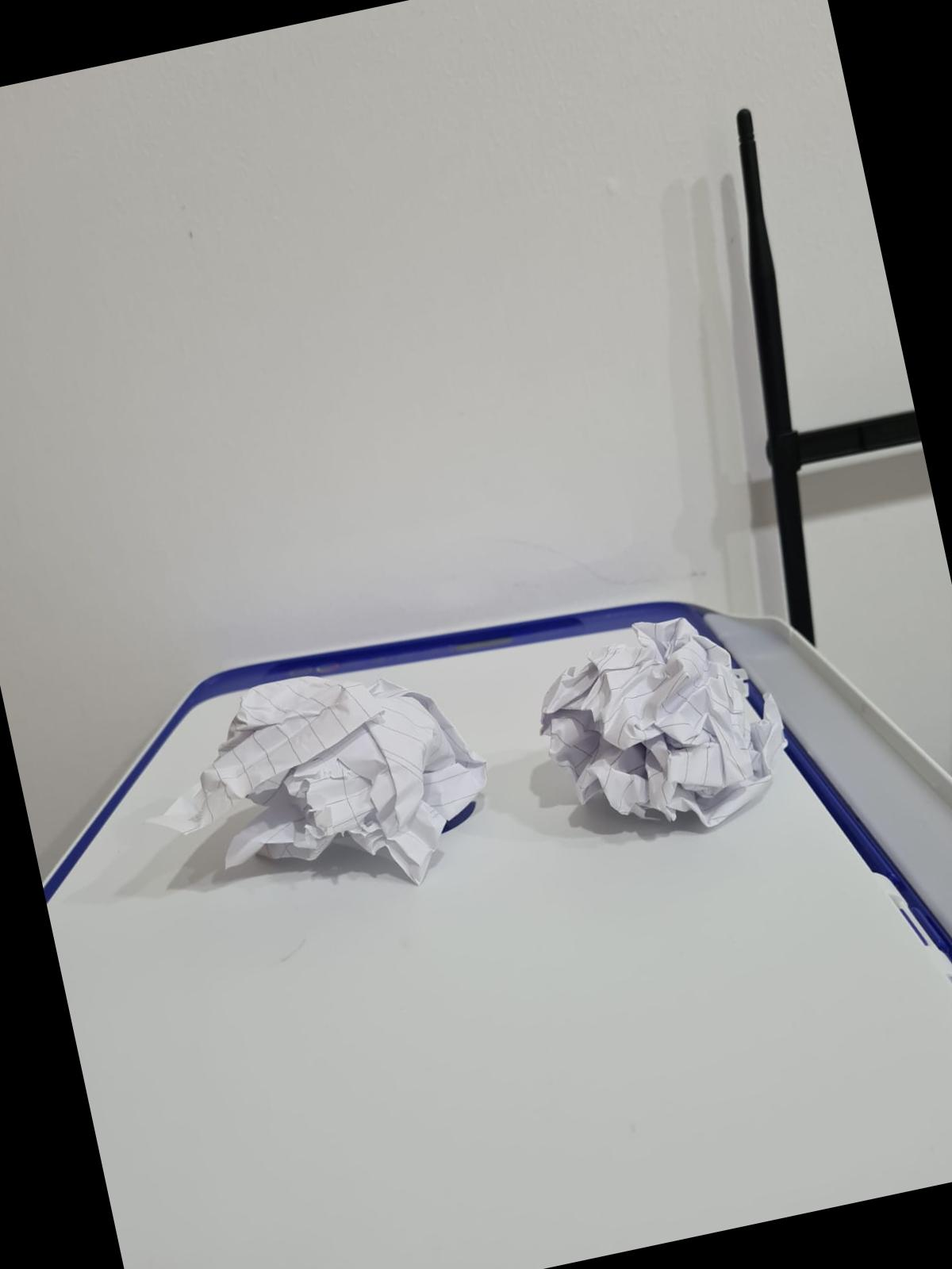Kertas: (163, 674, 496, 877), (519, 606, 791, 834)
